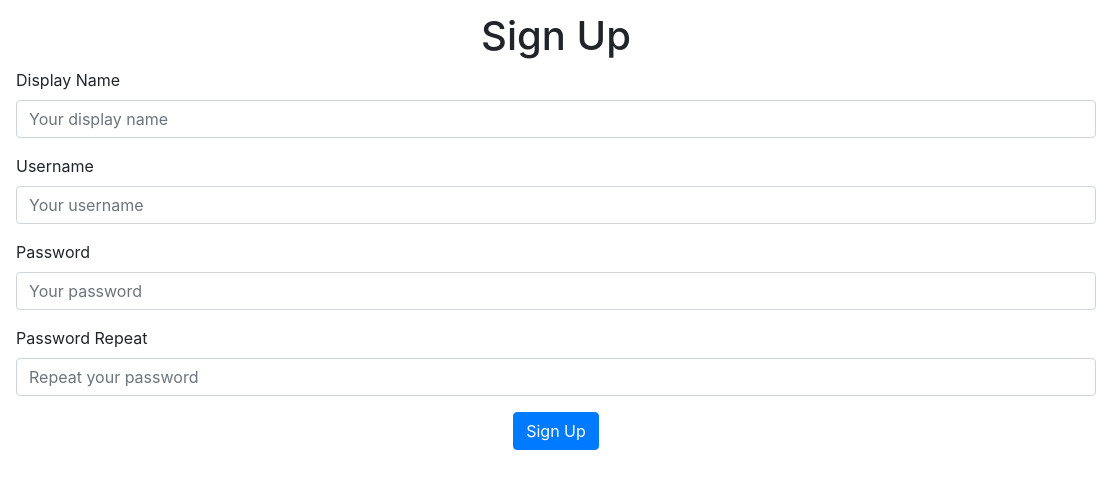
Scenario: UserSignupPage › Interactions › hides the validation error when user changes the content of displayName
Type "my-display-name" into the field with placeholder "Your display name" at (556, 119), box [16,100,1096,138]
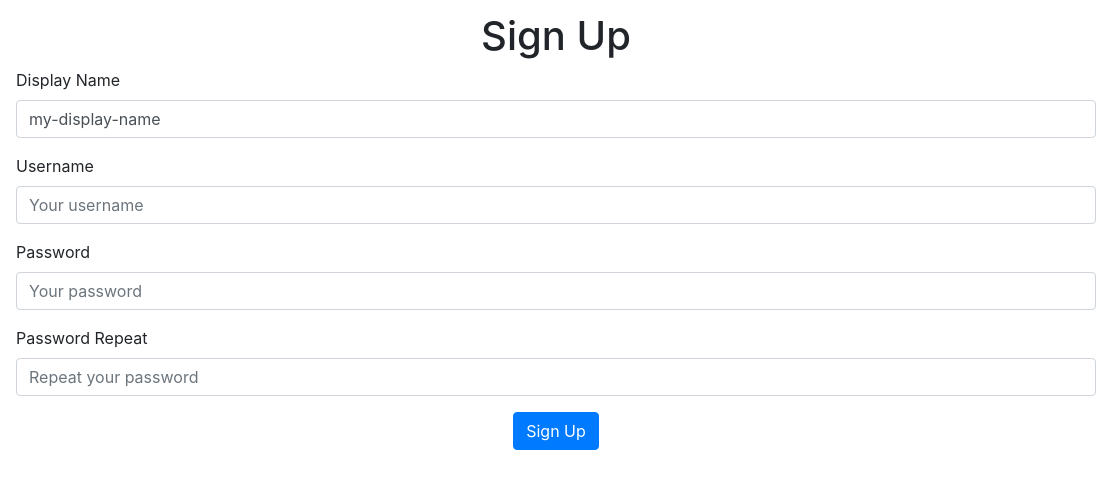
Type "my-user-name" into the field with placeholder "Your username" at (556, 205), box [16,186,1096,224]
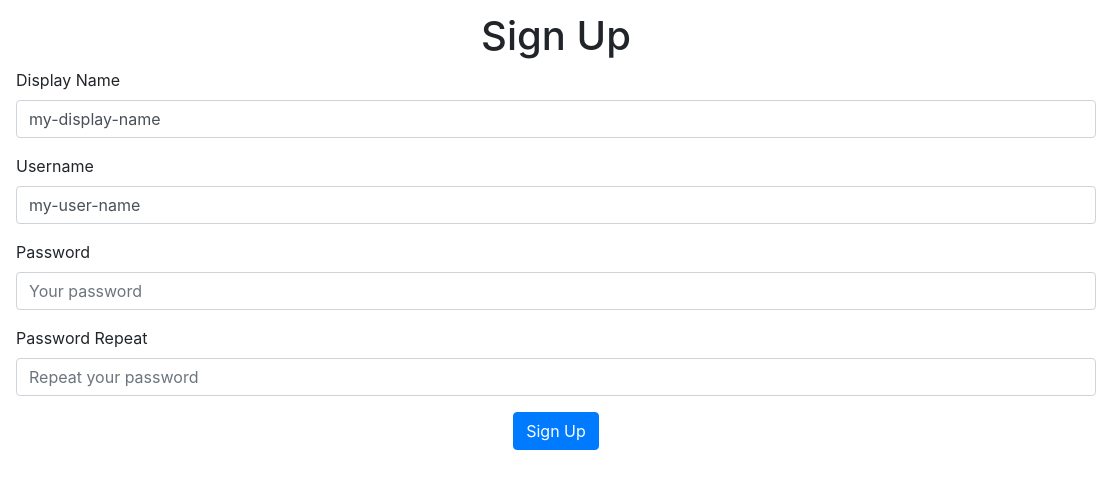
Type "P4ssword" into the password field with placeholder "Your password" at (556, 291), box [16,272,1096,310]
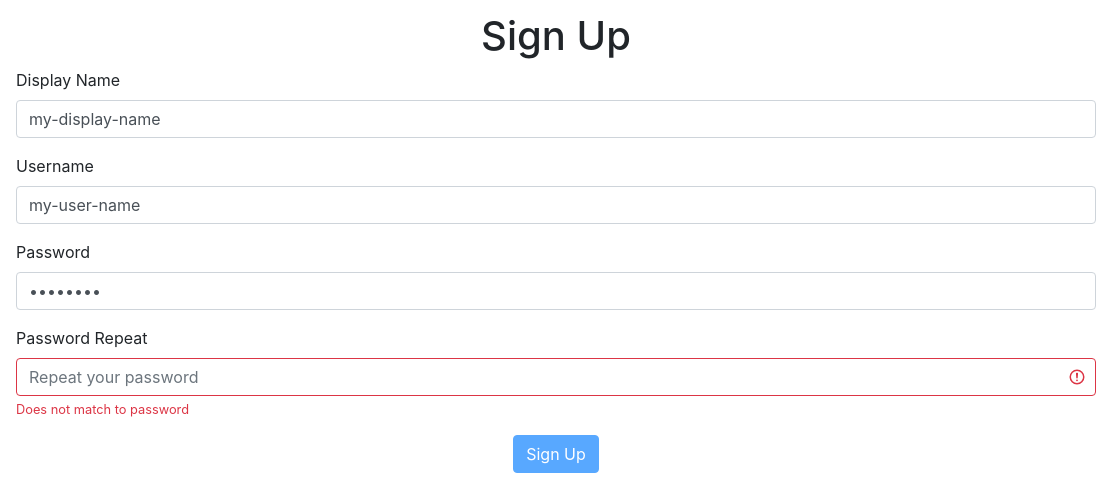
Type "P4ssword" into the password field with placeholder "Repeat your password" at (556, 377), box [16,358,1096,396]
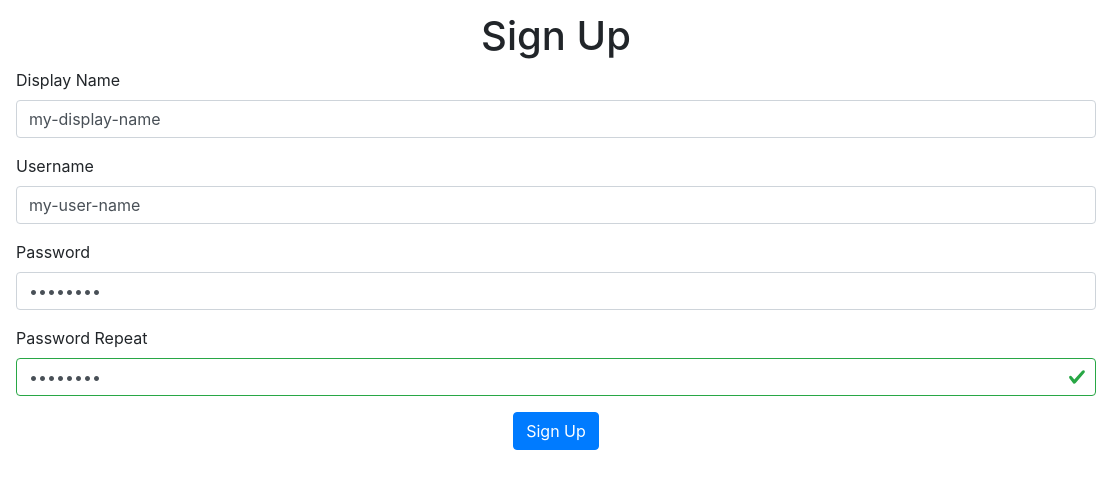
Click the button "Sign Up" at (556, 431), box [513,412,599,450]
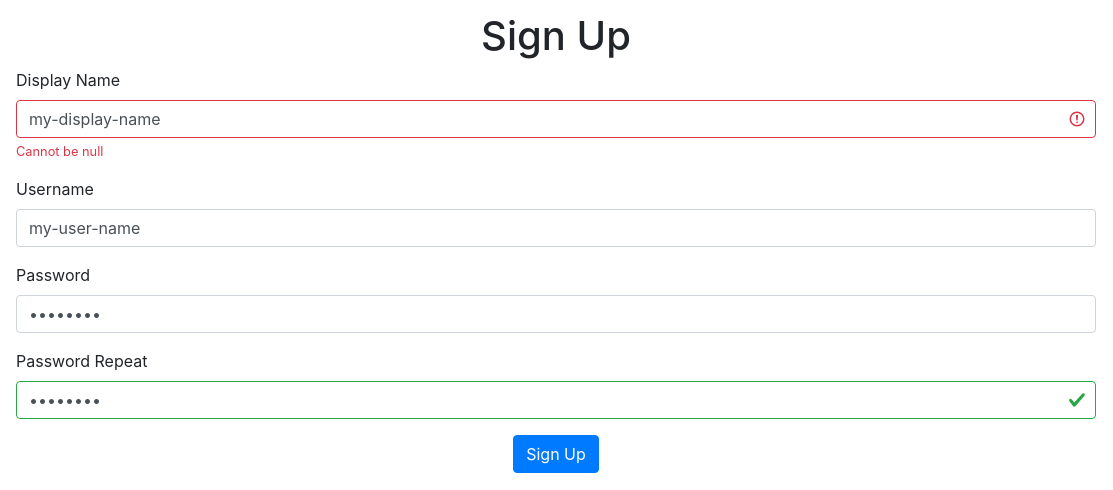
Result: the text "Cannot be null" is shown at [16,144,103,159]
Replace the text in the field with placeholder "Your display name" below "Display Name" with "name updated" at (556, 119), box [16,100,1096,138]
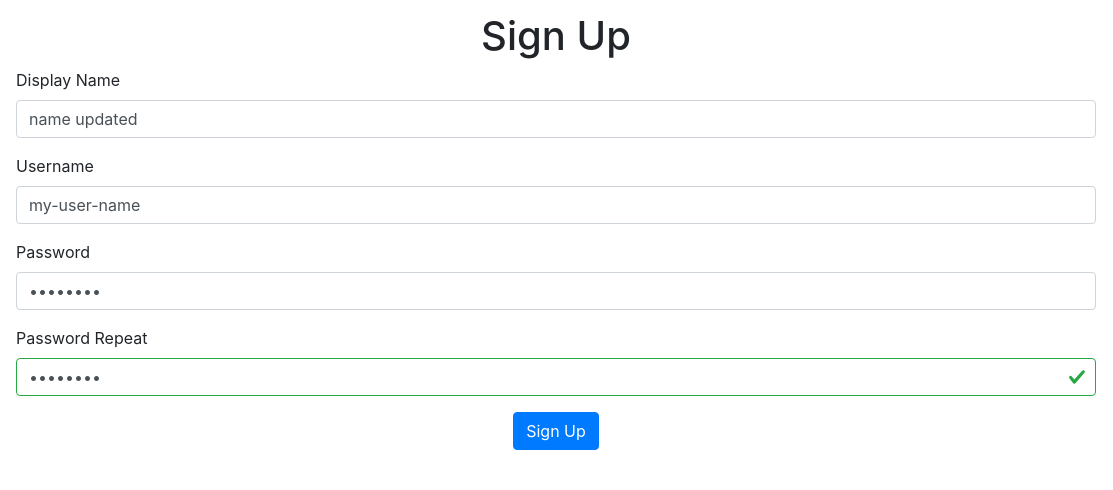
Result: the text "Cannot be null" is gone
